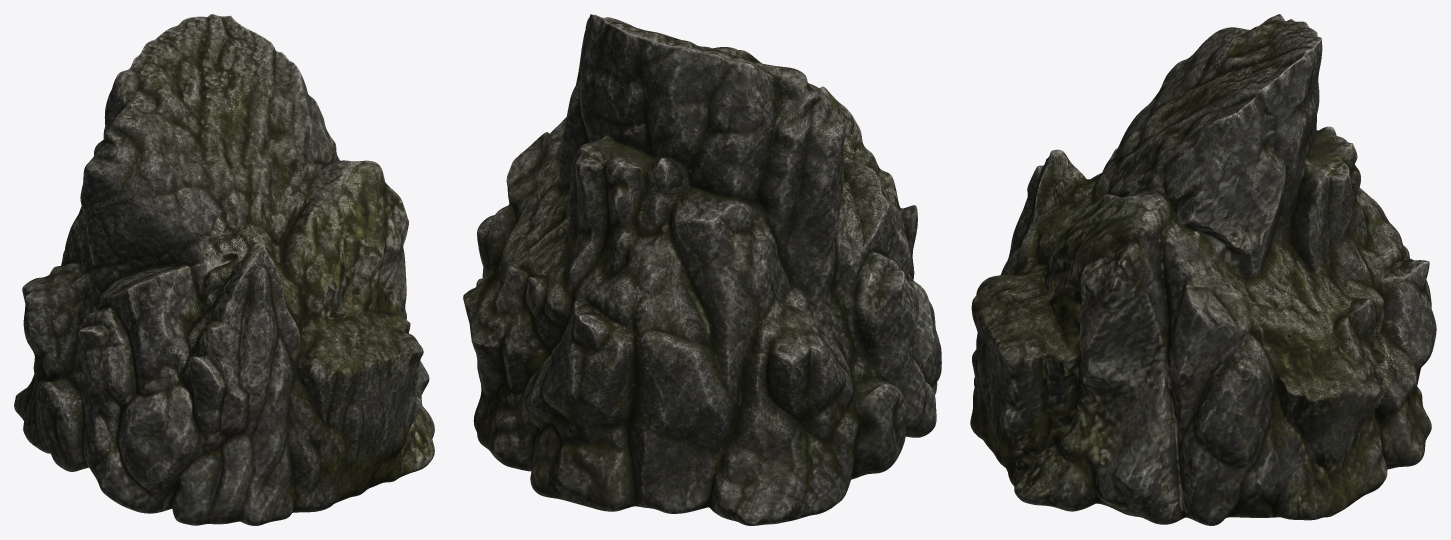
The picture shows the model from 3 angles, left to right: view 1: azimuth 30°, elevation 25°; view 2: azimuth 150°, elevation 25°; view 3: azimuth 270°, elevation 25°; orthographic projection. The views are drawn at different scales.
Bounding box in the file's own units: 57737 × 60817 × 61523.
1 material, 1 textured.
